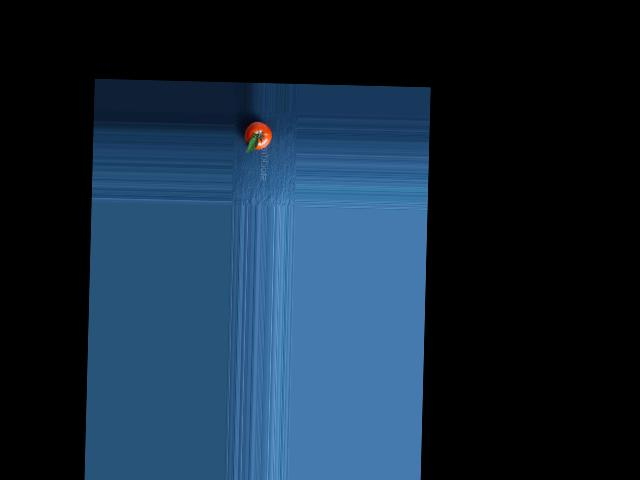tomato: (244, 121, 271, 150)
